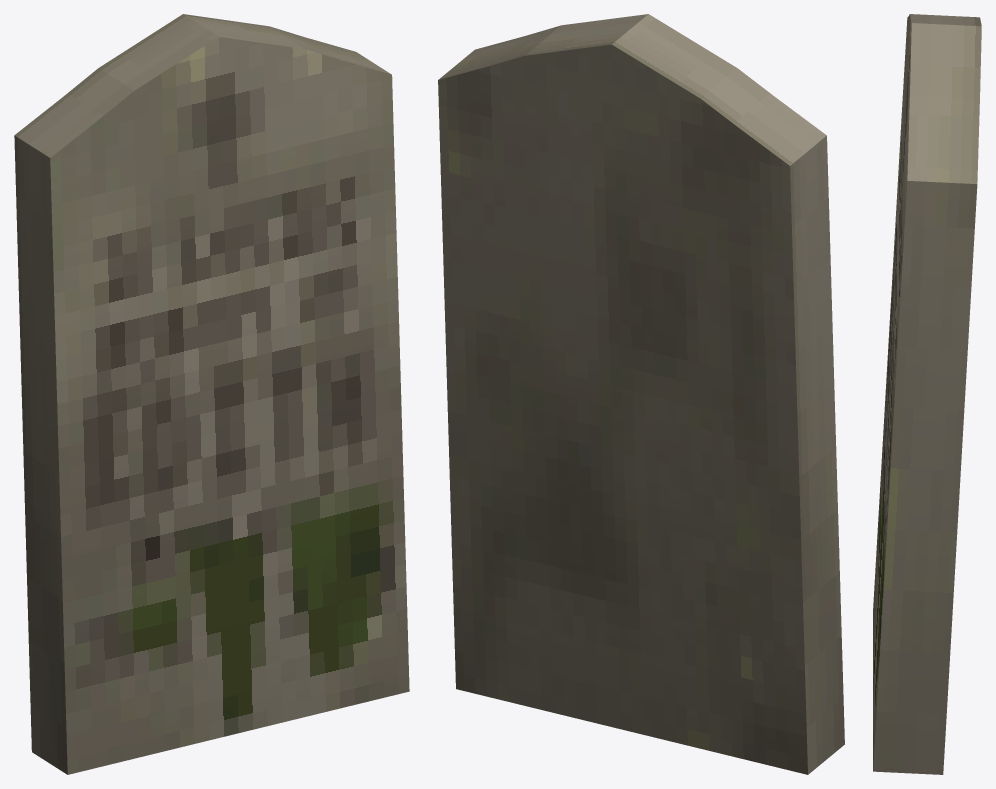
The model's file is headstone_shoulder.glb.
3 renders of one model, left to right at view 1: azimuth 30°, elevation 25°; view 2: azimuth 150°, elevation 25°; view 3: azimuth 270°, elevation 25°, orthographic. The views are drawn at different scales.
Visible parts, largest first — view 1: headstone_shoulder; view 2: headstone_shoulder; view 3: headstone_shoulder.
Part boxes in pixels (<box>): headstone_shoulder: <box>14,14,409,774</box>; headstone_shoulder: <box>438,14,844,774</box>; headstone_shoulder: <box>873,14,981,774</box>.
Bounding box in the file's own units: 0.55 × 1.05 × 0.1548.
Materials: 1 (1 with a texture image).
